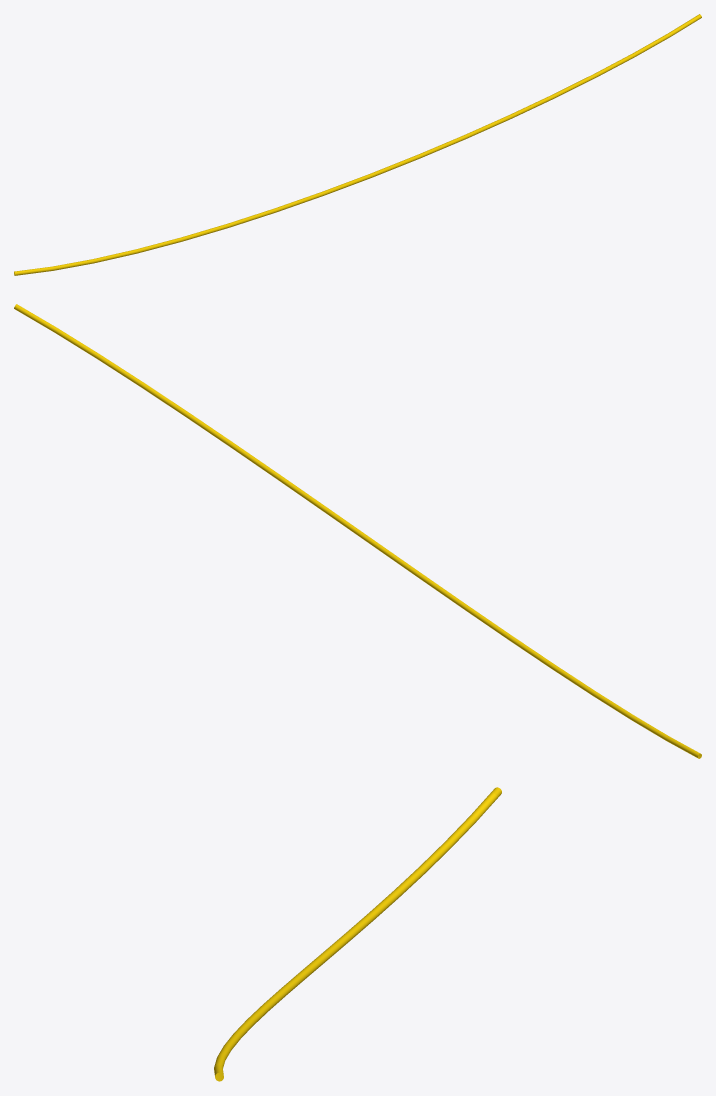
File: Event_421115418_track_83.fbx
3 renders of one model, top to bottom at view 1: azimuth 30°, elevation 25°; view 2: azimuth 150°, elevation 25°; view 3: azimuth 270°, elevation 25°, orthographic. The views are drawn at different scales.
Visible parts, largest first — view 1: Model; view 2: Model; view 3: Model.
Part boxes in pixels (left/top/right/bottom): Model: left=14, top=14, right=701, bottom=275; Model: left=14, top=304, right=701, bottom=758; Model: left=214, top=787, right=501, bottom=1081.
Size of the model in its own units: 6.42 by 1.61 by 1.3.
